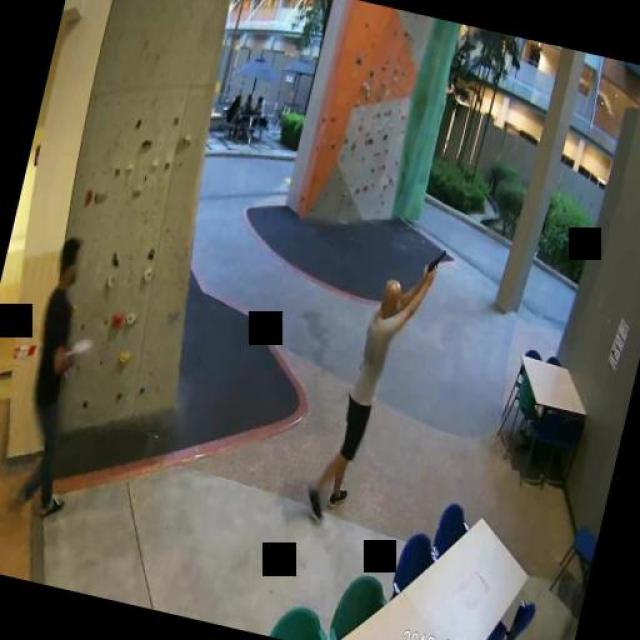gun: (424, 245, 445, 281)
